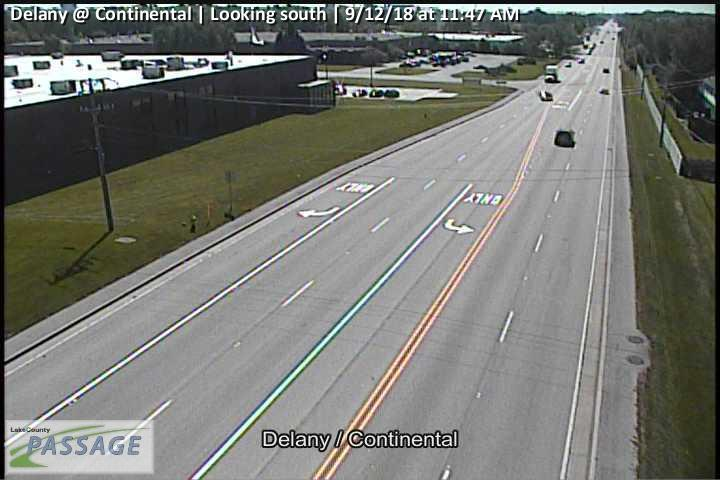SUV: (554, 131, 575, 147)
Sedan: (539, 90, 554, 102)
Truck: (545, 63, 558, 83)
